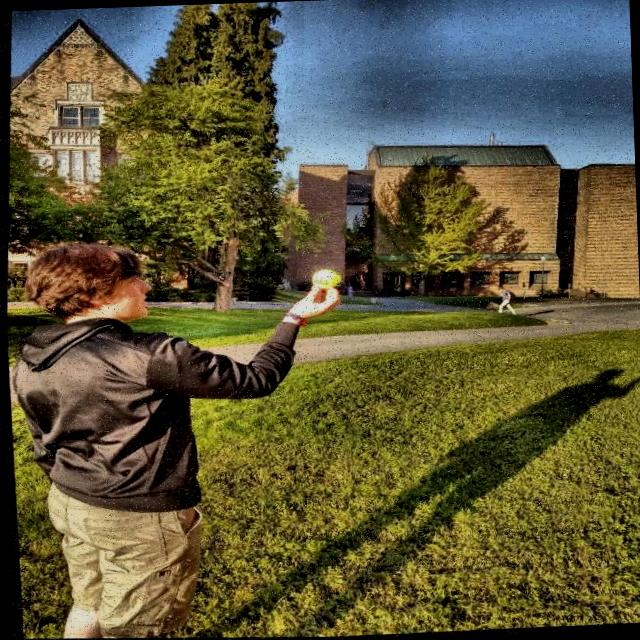Tennis Ball: (309, 266, 340, 292)
